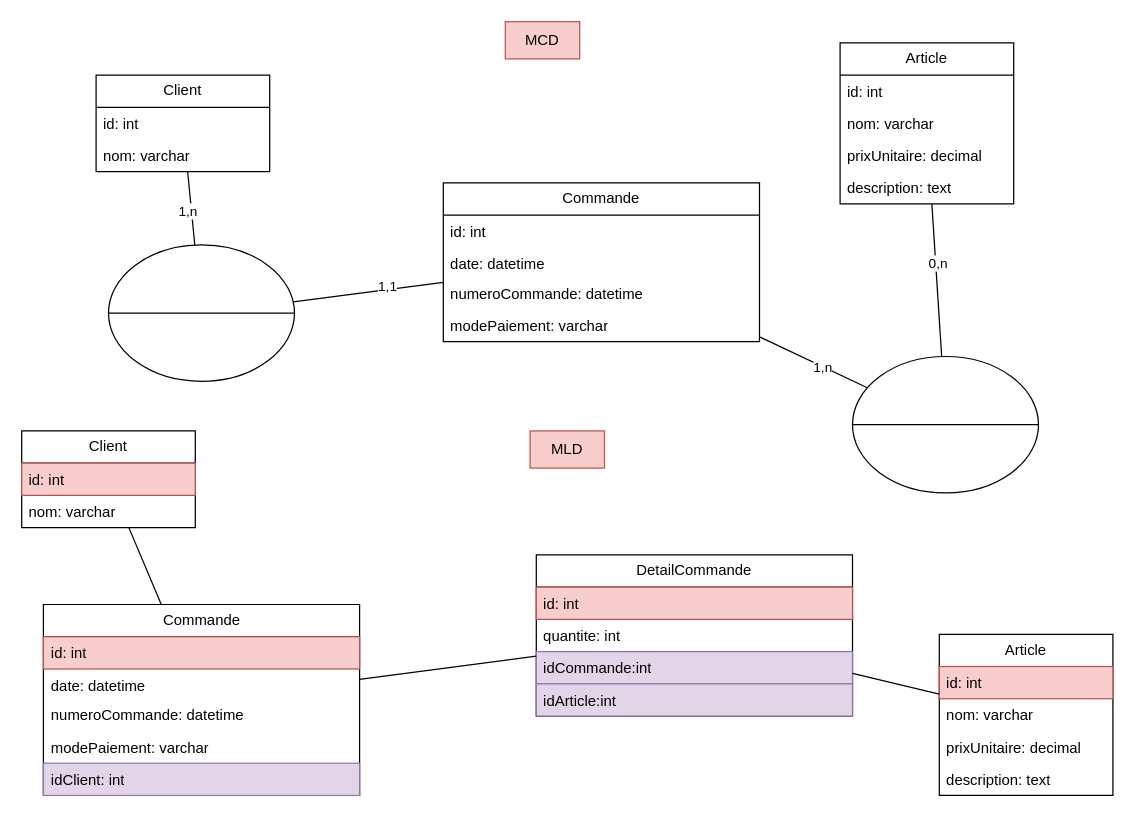
The diagram is 1135 pixels wide and 821 high, and some of its shapes have lost their labels. The centre of each missing label's shape, as x and y in pixels:
"contient quantite" goes at point (944, 424).
"fait" goes at point (200, 312).
